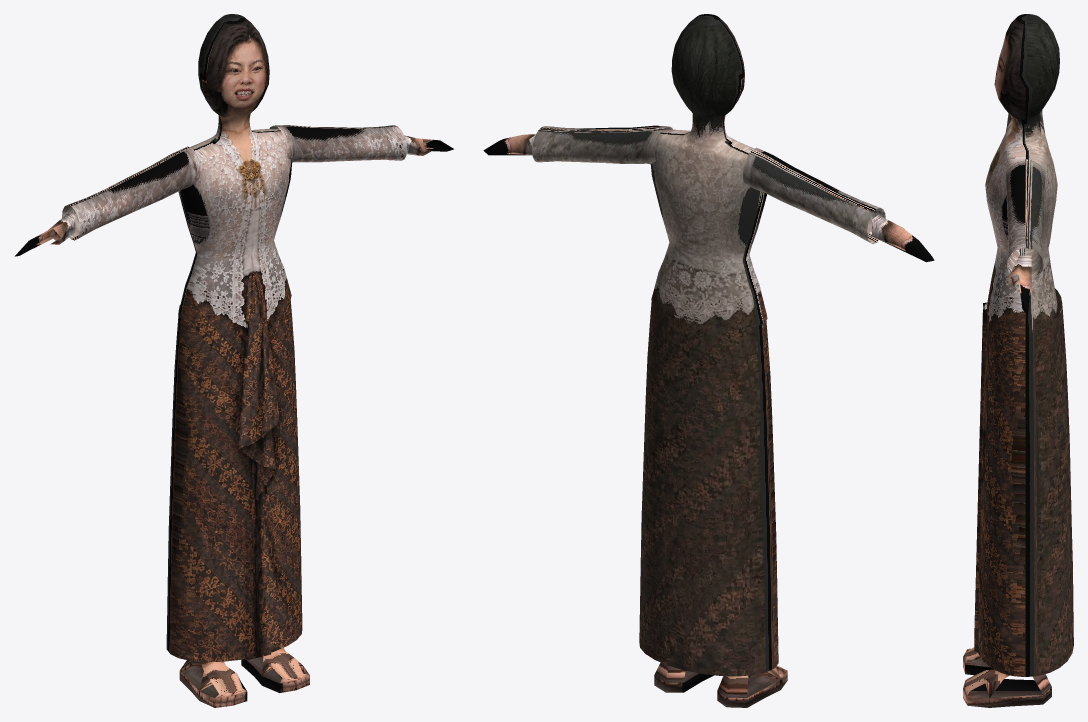
Rendered from nona_batavia.glb.
3 renders of one model, left to right at view 1: azimuth 30°, elevation 25°; view 2: azimuth 150°, elevation 25°; view 3: azimuth 270°, elevation 25°, orthographic. The views are drawn at different scales.
Parts seen in each view (by area): view 1: PS2_Kebaya_Character; view 2: PS2_Kebaya_Character; view 3: PS2_Kebaya_Character.
Part boxes in pixels (box(x1,y1,x2,y2)): PS2_Kebaya_Character: box(14, 14, 453, 707); PS2_Kebaya_Character: box(483, 14, 934, 707); PS2_Kebaya_Character: box(963, 14, 1073, 707).
Size of the model in its own units: 1.16 by 1.65 by 0.2492.
1 material, 1 textured.
